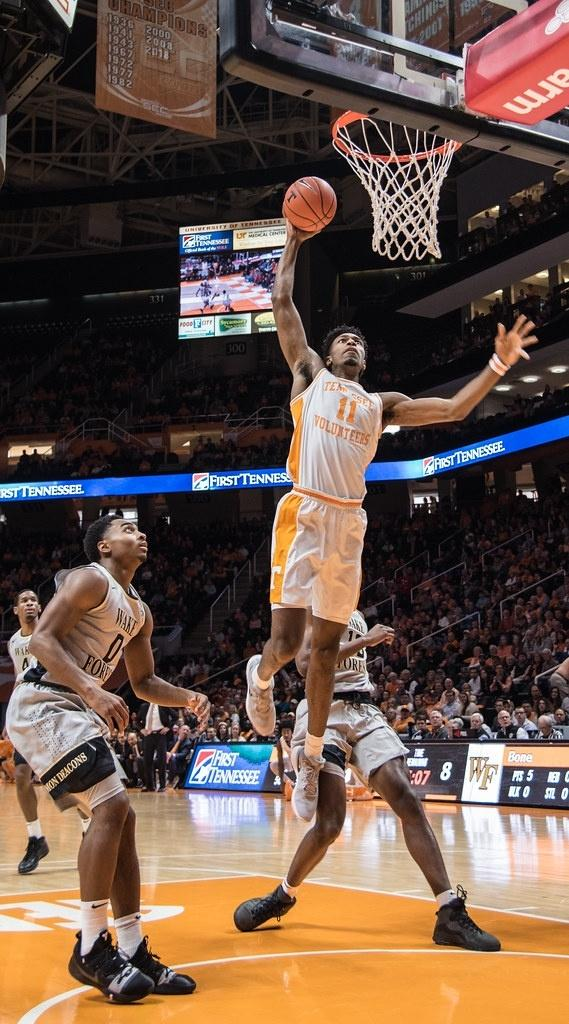basketball-player: (242, 215, 538, 821), (233, 452, 512, 956), (9, 452, 226, 1004), (10, 546, 74, 884)
